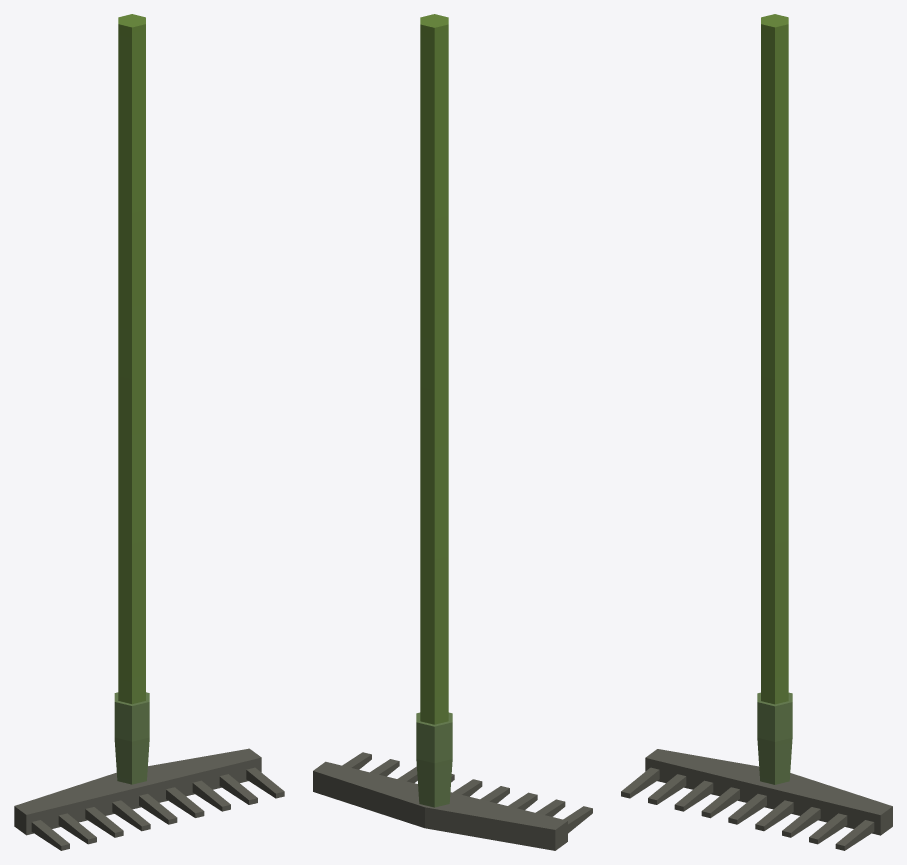
Rendered from Rake_01.fbx.
3 renders of one model, left to right at view 1: azimuth 30°, elevation 25°; view 2: azimuth 150°, elevation 25°; view 3: azimuth 330°, elevation 25°, orthographic. The views are drawn at different scales.
Visible parts, largest first — view 1: Rake_01; view 2: Rake_01; view 3: Rake_01.
Part boxes in pixels (<box>): Rake_01: <box>14,14,284,850</box>; Rake_01: <box>313,14,592,850</box>; Rake_01: <box>621,14,892,850</box>.
Bounding box in the file's own units: 0.3886 × 1.23 × 0.1454.
